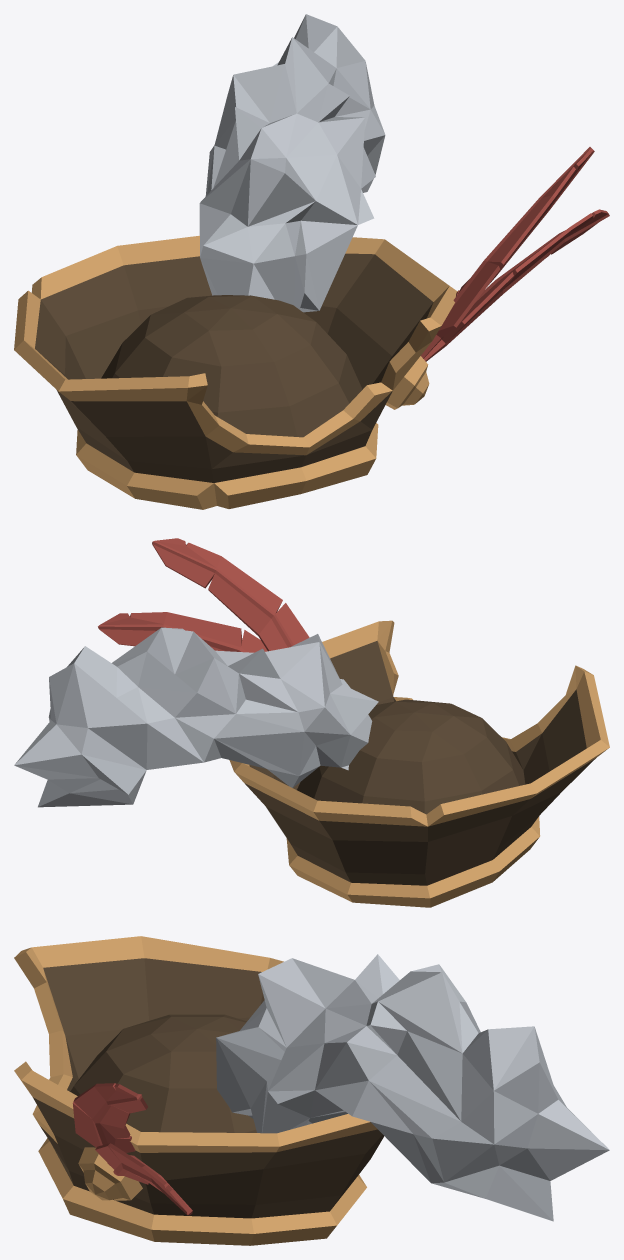
Rendered from SM_Chr_Attach_Hat_05.fbx.
3 views of the same model, one above another, from view 1: azimuth 30°, elevation 25°; view 2: azimuth 150°, elevation 25°; view 3: azimuth 270°, elevation 25° (orthographic). The views are drawn at different scales.
Parts seen in each view (by area): view 1: SM_Chr_Attach_Hat_05; view 2: SM_Chr_Attach_Hat_05; view 3: SM_Chr_Attach_Hat_05.
Part boxes in pixels (left/top/right/bottom): SM_Chr_Attach_Hat_05: left=14, top=14, right=609, bottom=509; SM_Chr_Attach_Hat_05: left=14, top=538, right=609, bottom=907; SM_Chr_Attach_Hat_05: left=14, top=936, right=609, bottom=1245.
Bounding box in the file's own units: 78.01 × 40.01 × 66.98.
